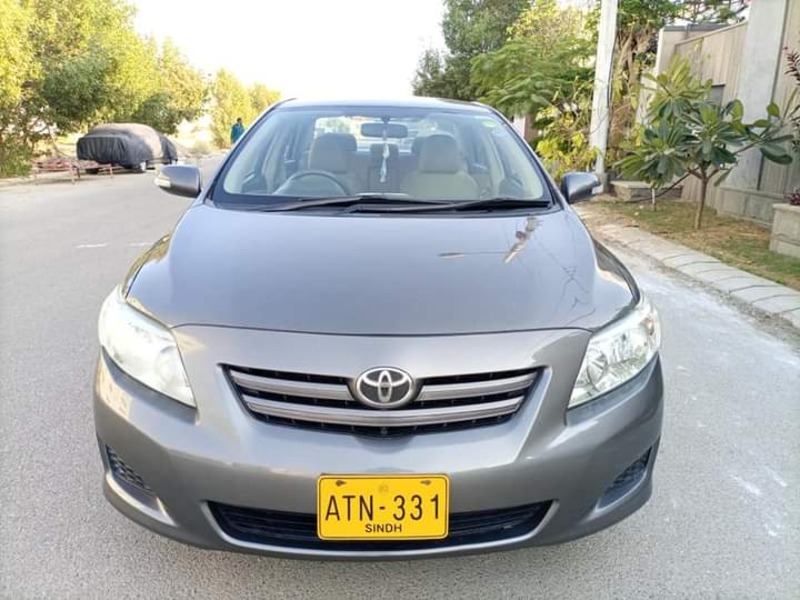License Plate: (312, 470, 456, 547)
